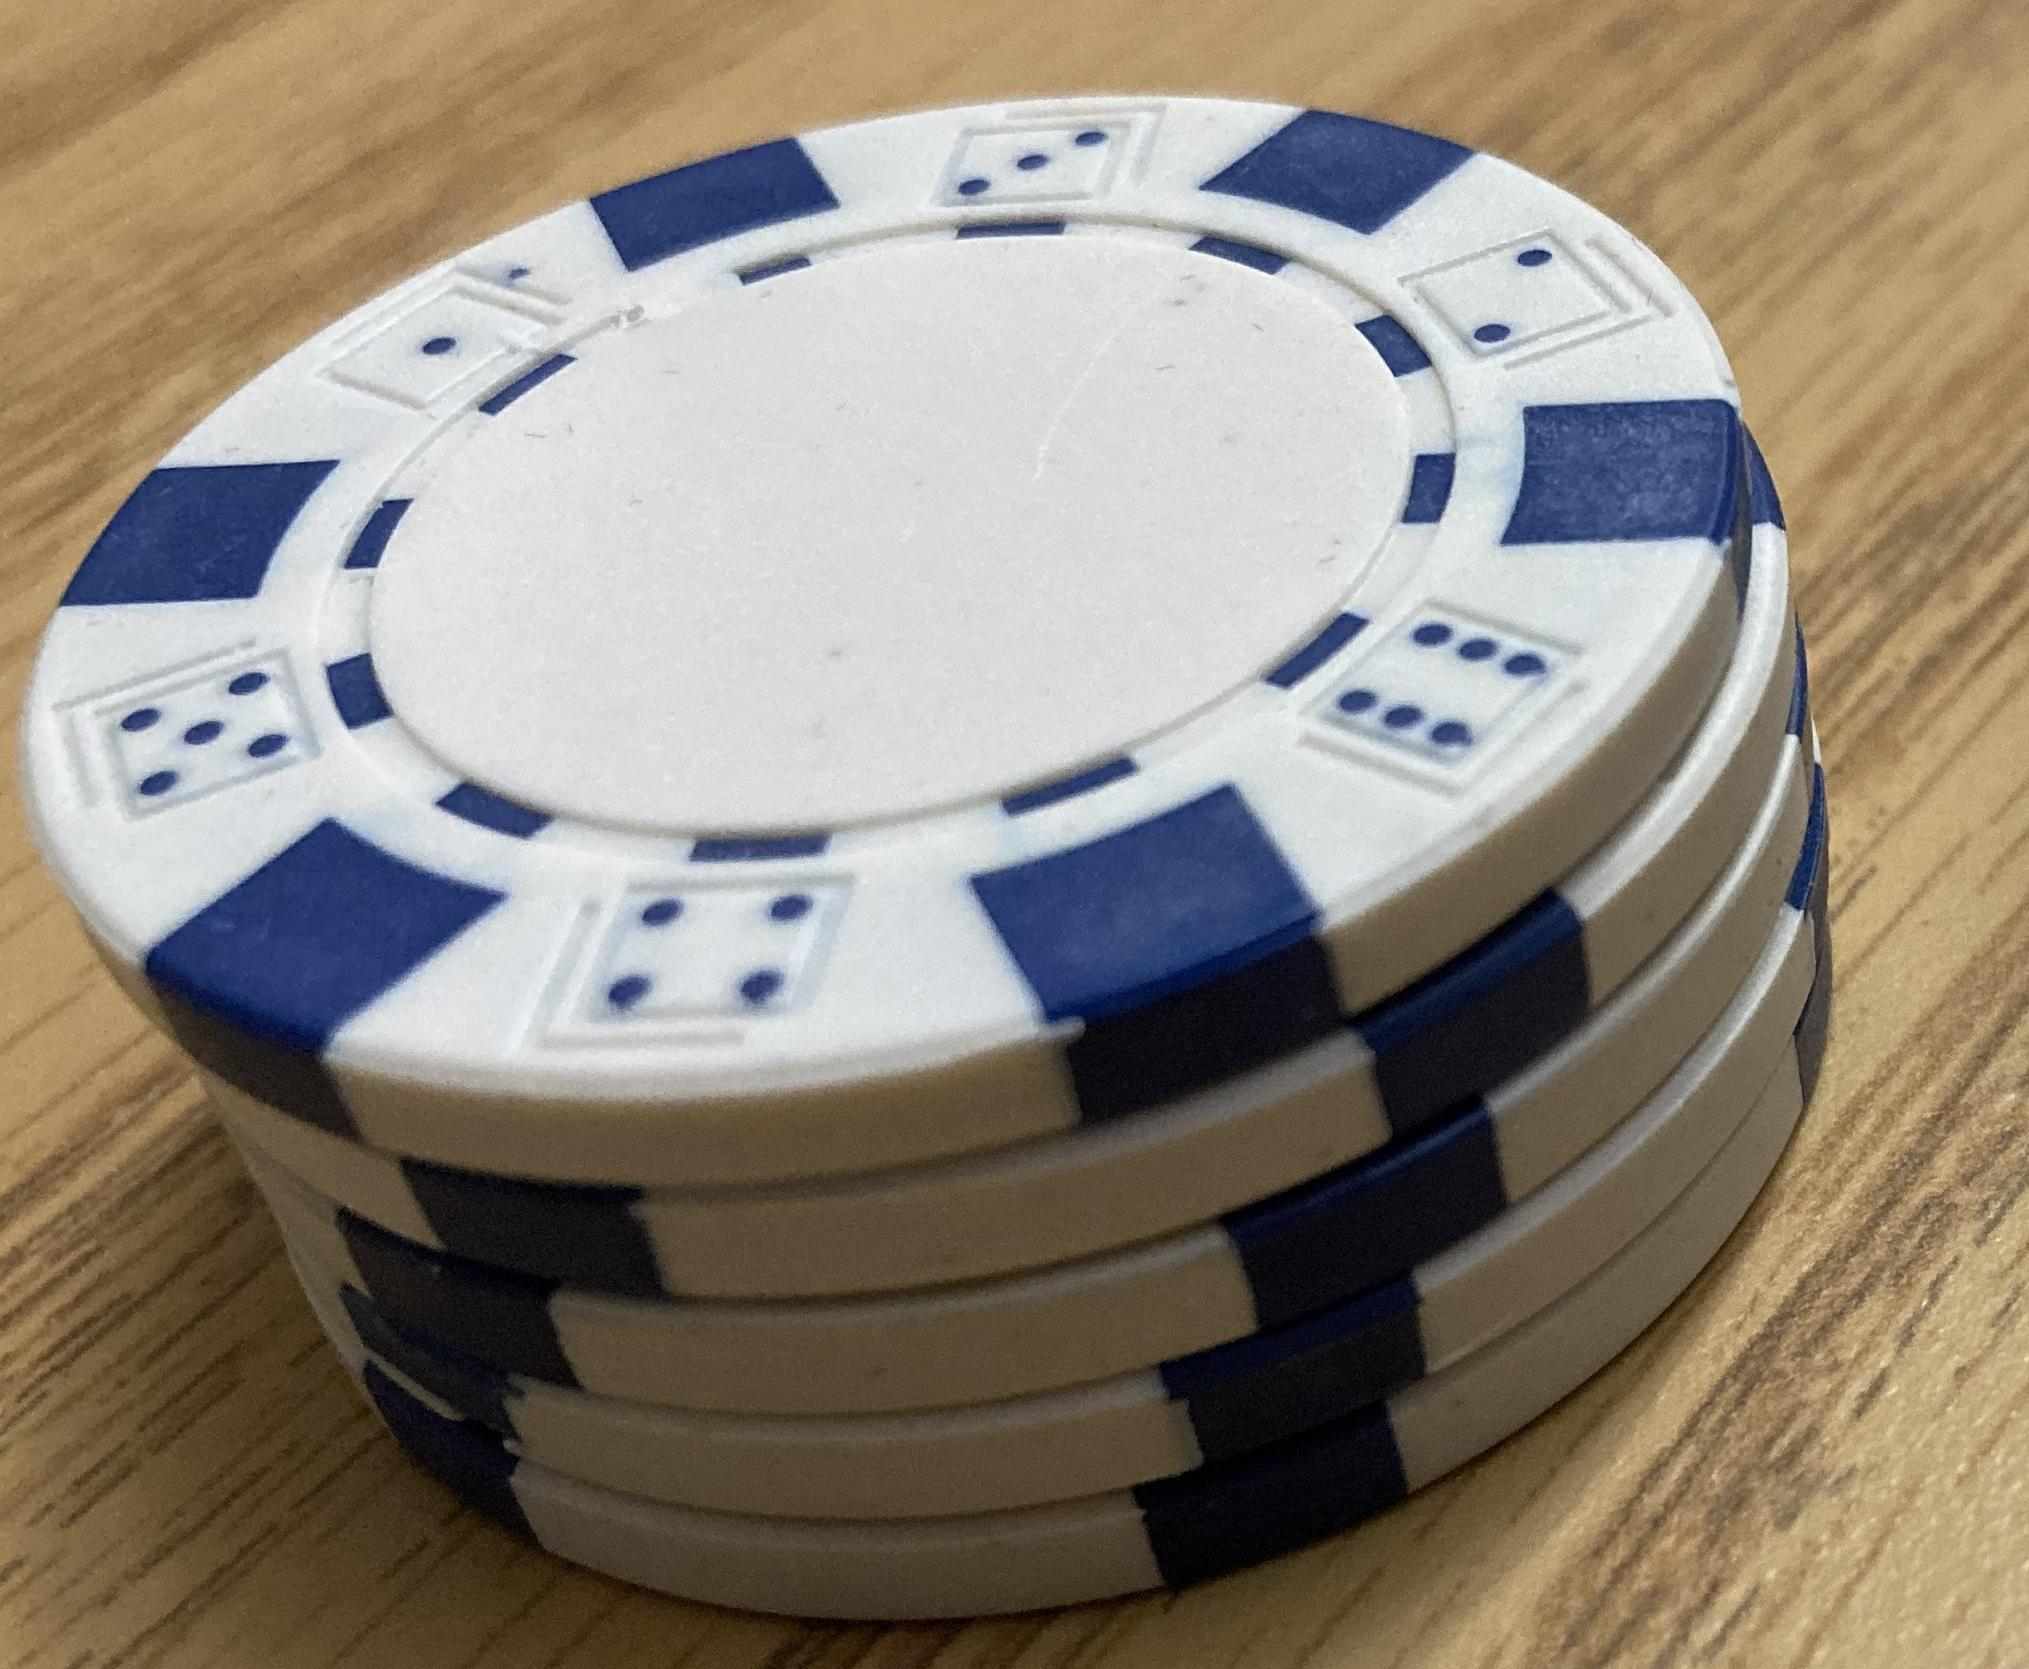Chip: (2, 2, 2029, 1669)
